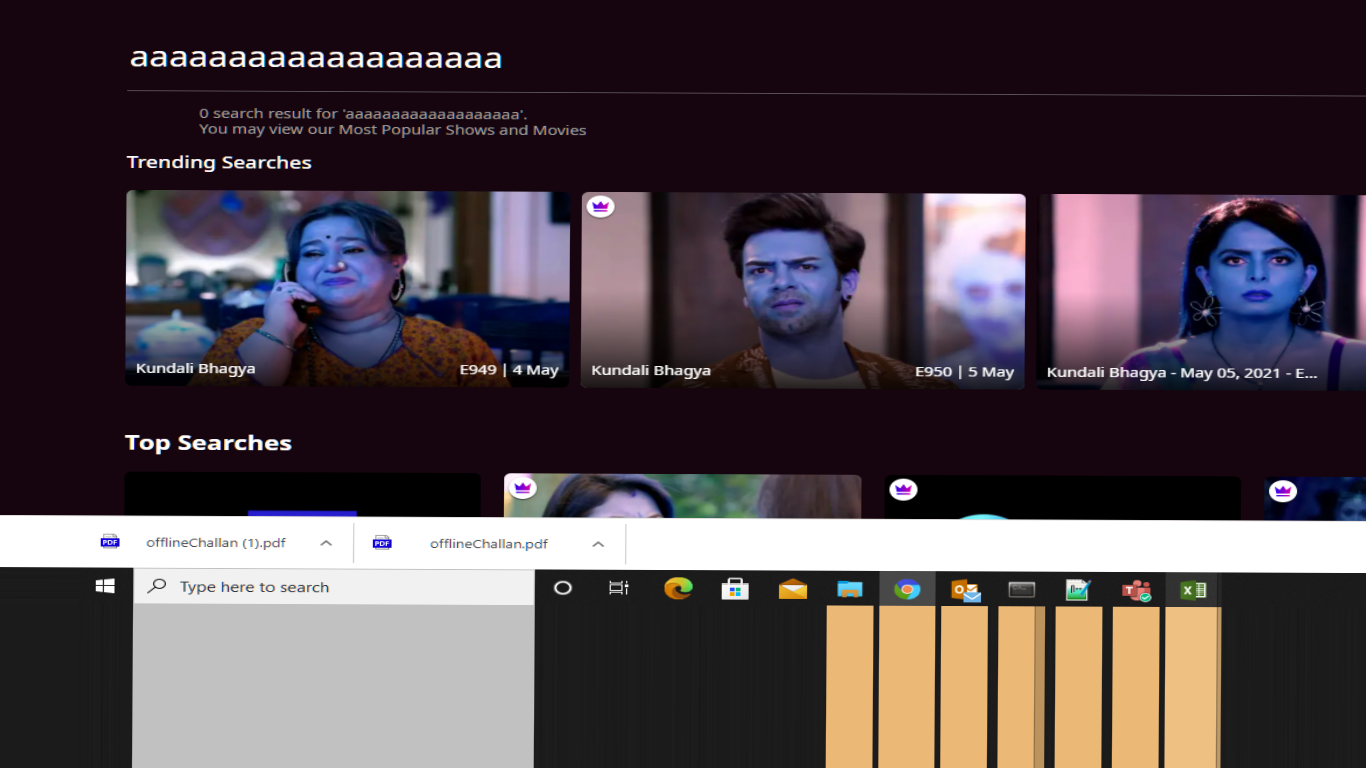noresultsfound: (142, 94, 656, 142)
searchtextbox: (112, 19, 751, 96)
